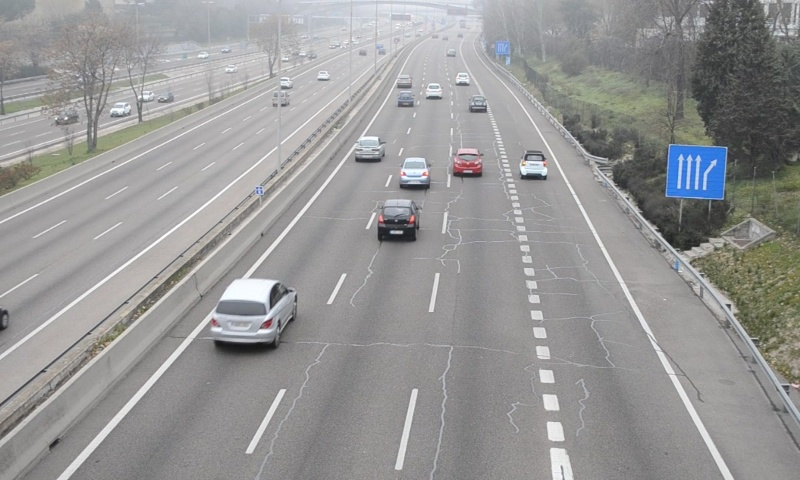car: (208, 280, 295, 346), (378, 198, 421, 242), (398, 157, 432, 192), (453, 148, 484, 177), (354, 136, 386, 163), (520, 150, 548, 180), (468, 95, 488, 113), (396, 90, 416, 108), (424, 82, 443, 100), (454, 72, 471, 87), (396, 74, 413, 88)
